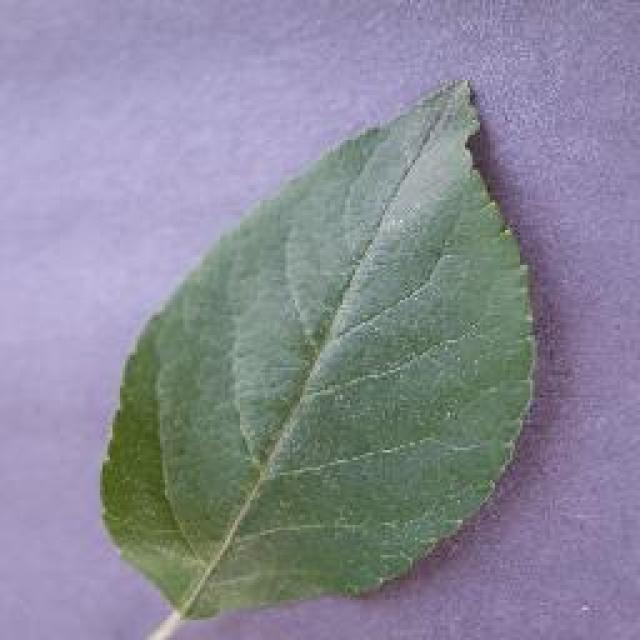apple scab disease: (95, 75, 540, 620)
